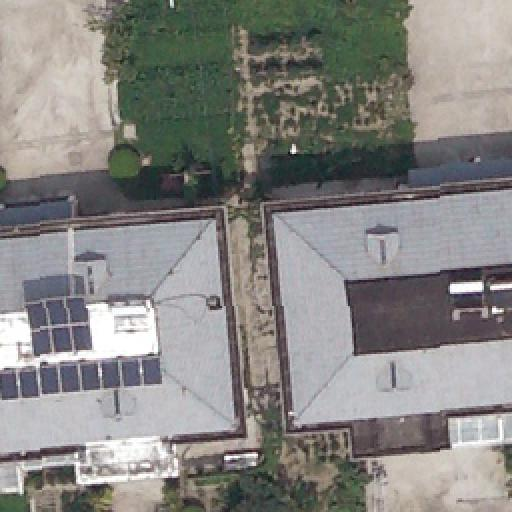solar-panel: (0, 350, 161, 403), (25, 292, 98, 354)
